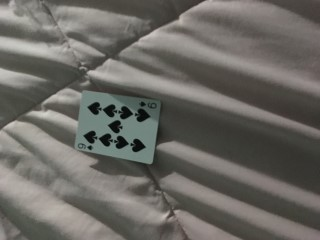NineOfSpades: (74, 90, 161, 165)
